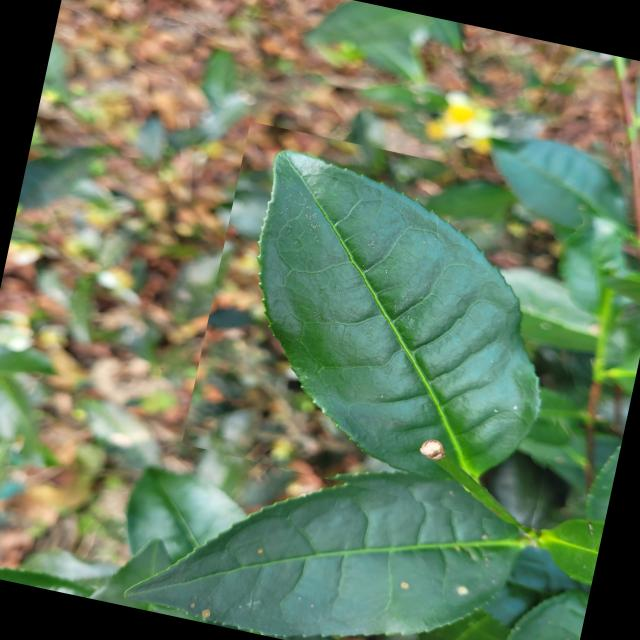Category D(7+ days, Not for Tea): (179, 121, 611, 530)
